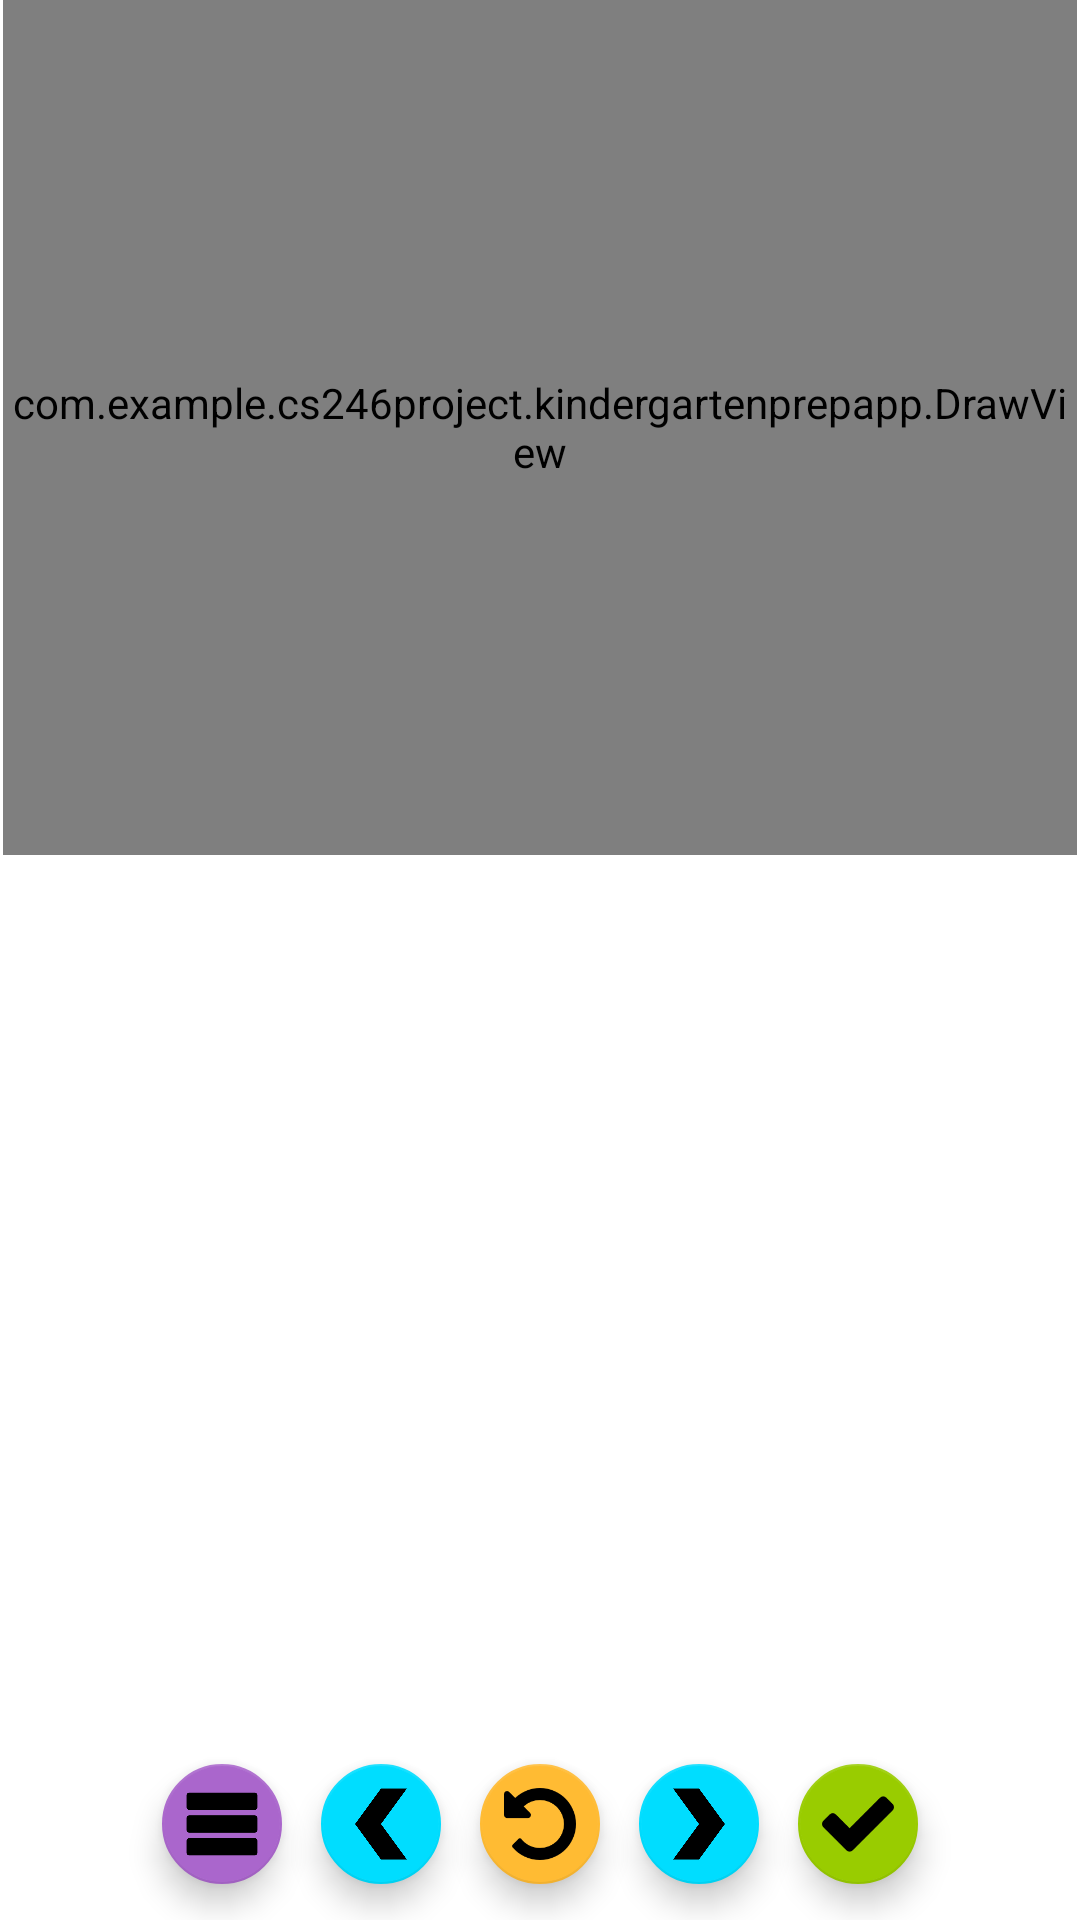

Named icons in this screenshot (1080x1920) and their bounding boxes, bbox(x1, y1, x2, y2):
arrow left: bbox(321, 1764, 441, 1896)
arrow right: bbox(639, 1764, 760, 1896)
check: bbox(798, 1764, 920, 1896)
clear: bbox(480, 1764, 600, 1896)
menu: bbox(161, 1764, 282, 1896)
